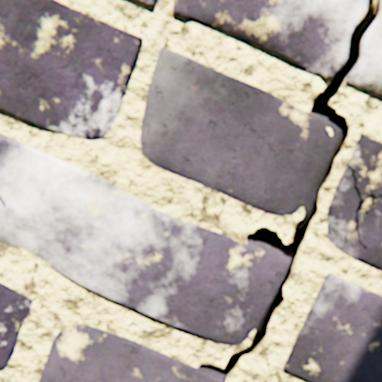brick: (0, 133, 289, 345), (140, 49, 332, 216), (0, 0, 143, 141), (40, 324, 225, 381), (283, 274, 381, 381), (326, 167, 381, 271), (0, 282, 33, 371), (347, 136, 381, 201), (133, 0, 156, 8)
broken_brick: (173, 0, 367, 81), (346, 0, 381, 98)
crack: (198, 0, 380, 380), (346, 165, 381, 249), (0, 195, 6, 208)
